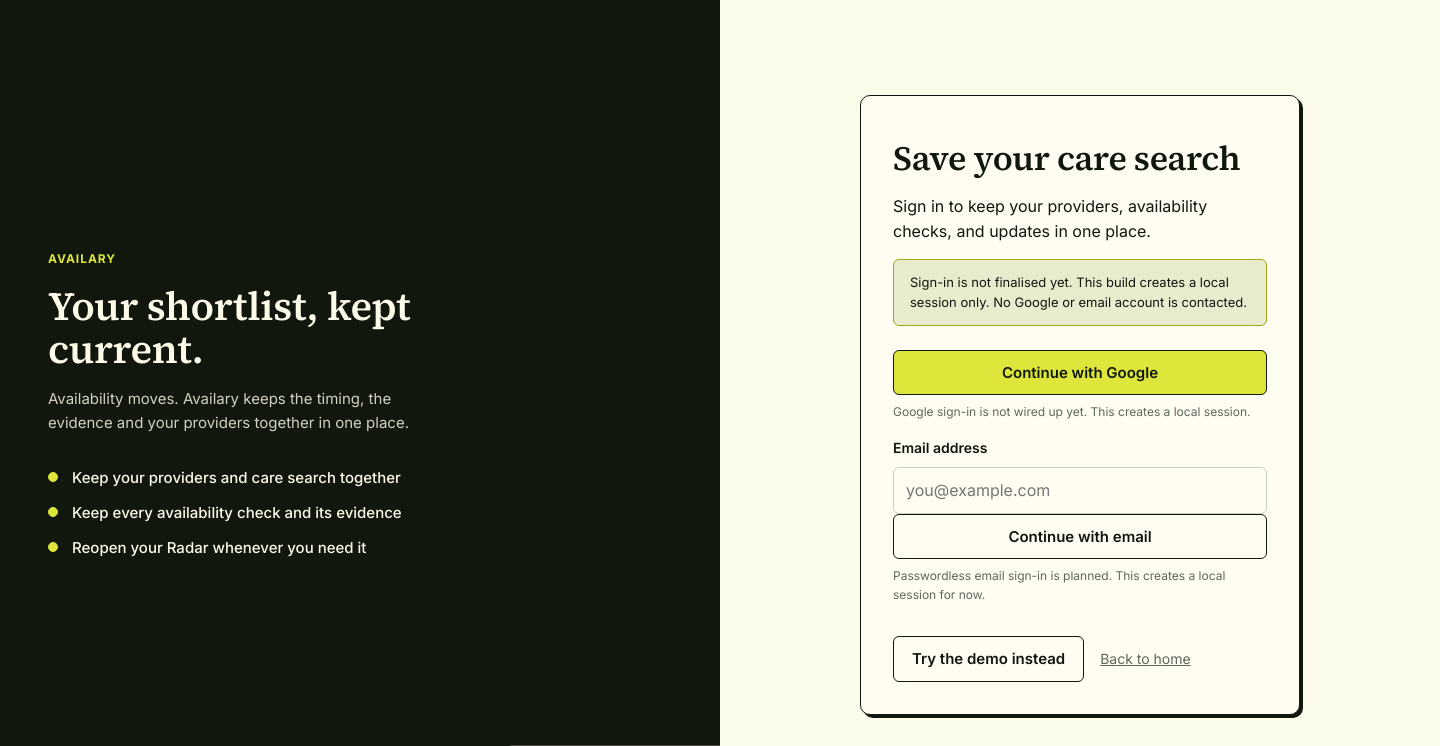
Test: 4. mock sign-in continues into the main app (Radar)
Expected: the heading "Save your care search" is shown, [893, 140, 1267, 178]
Click the button "Continue with Google" at (1080, 372), box [893, 350, 1267, 395]
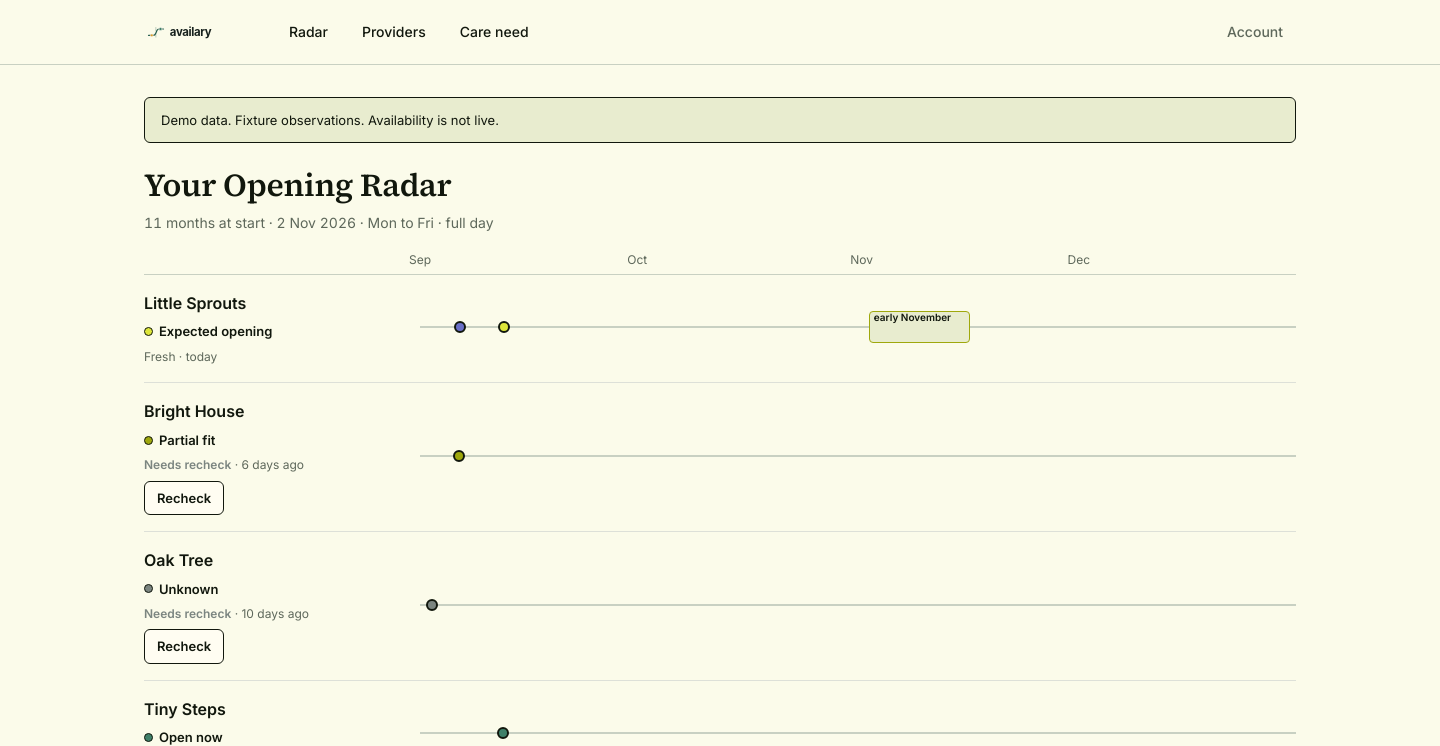
Expected: the heading "Your Opening Radar" is shown, [144, 163, 451, 207]
